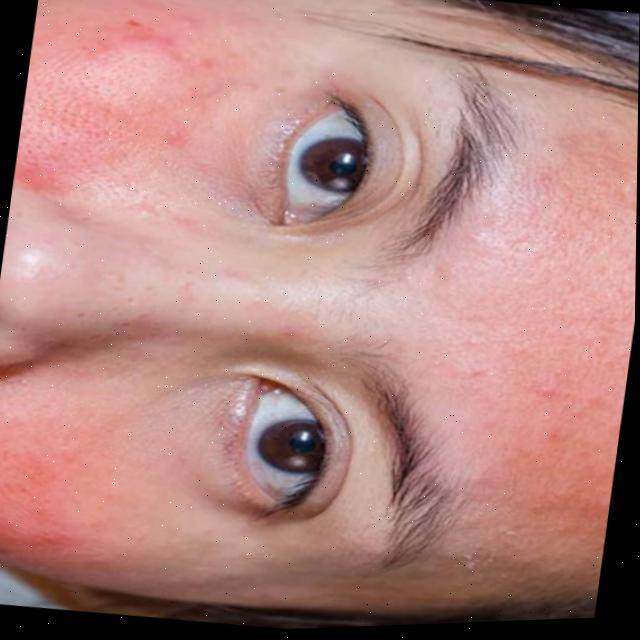Rosacea: (456, 141, 638, 538), (11, 0, 264, 217), (0, 399, 132, 582)
